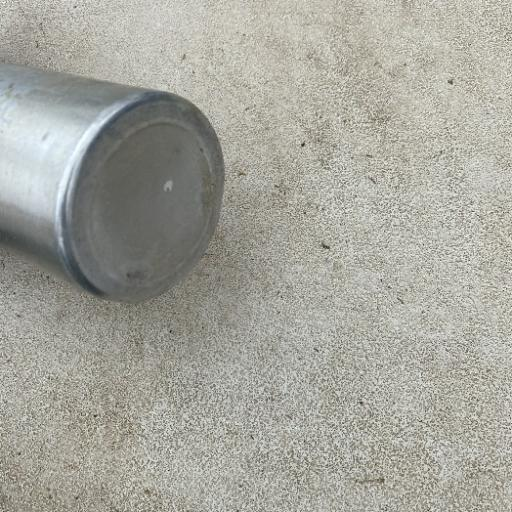Metal: (1, 58, 227, 306)
